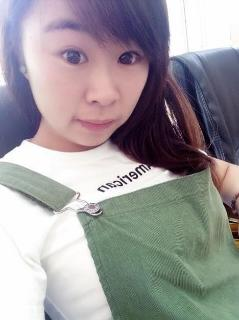short sleeve top: (0, 120, 239, 319)
